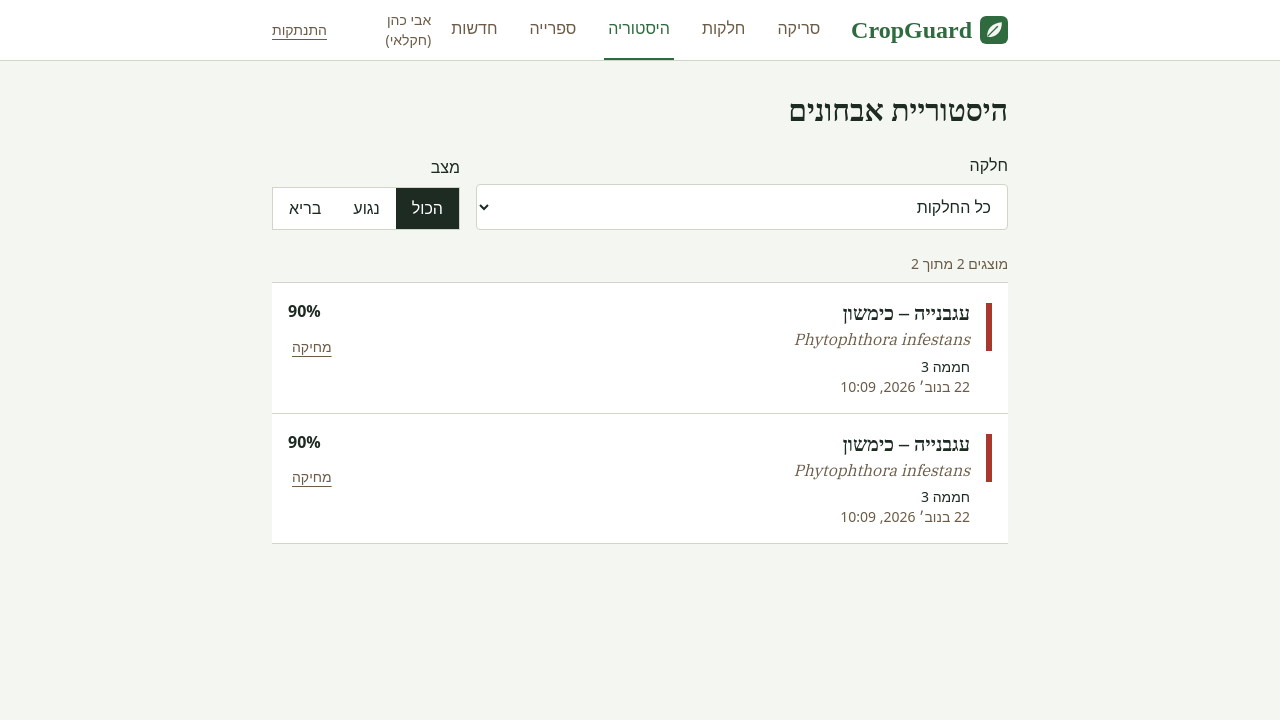
history page › deleting a diagnosis › asks for confirmation, deletes, and removes the row
The image size is (1280, 720).
What coordinates should you click on to do the following:
click the button with aria-label "מחיקת האבחון"
I would click on:
 (312, 347)
Its box is x1=288 y1=333 x2=336 y2=361.
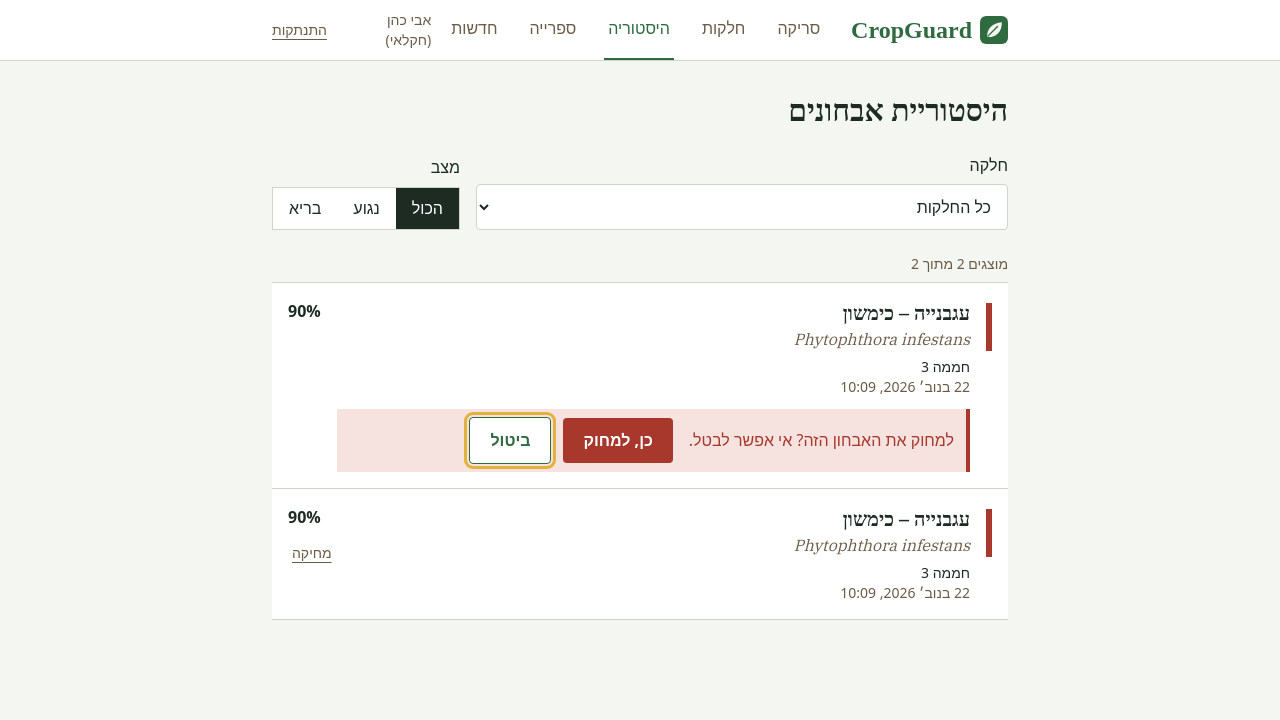
expect the element "למחוק את האבחון הזה? אי אפשר לבטל. כן, למחוק ביטול" is shown: met, box x1=337 y1=409 x2=970 y2=472
What coordinates should you click on to do the following:
click the button "כן, למחוק"
I would click on:
 (618, 441)
Its box is x1=564 y1=418 x2=673 y2=463.
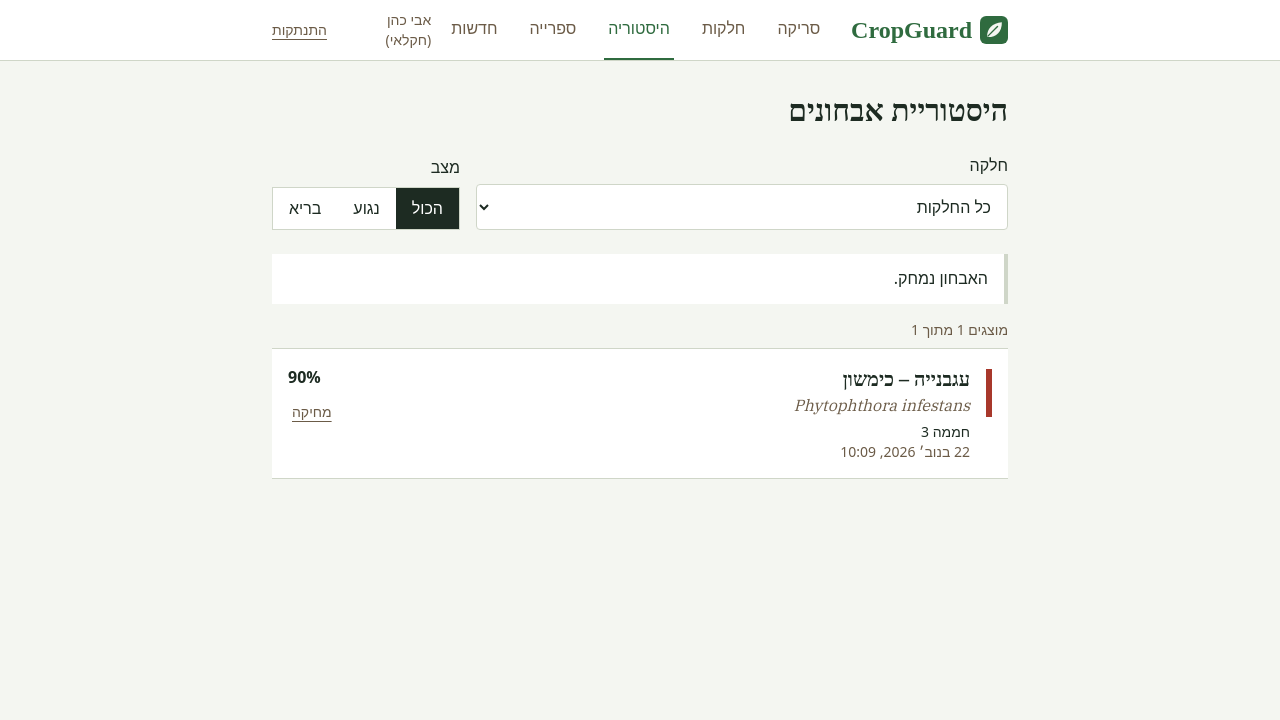
expect the text "האבחון נמחק." is shown: met, box x1=272 y1=254 x2=1008 y2=304
expect the number of list items is 1: met, box x1=272 y1=349 x2=1008 y2=478
expect the text "מוצגים 1 מתוך 1" is shown: met, box x1=911 y1=320 x2=1008 y2=339
